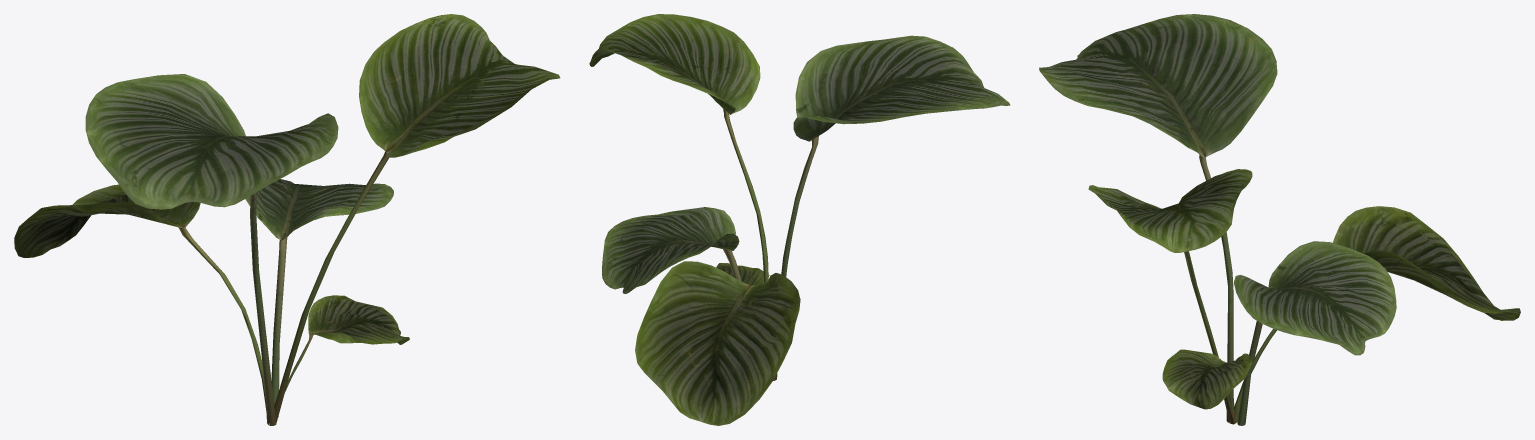
File: calathea_orbifolia_01_e.gltf.lod.glb
3 renders of one model, left to right at view 1: azimuth 30°, elevation 25°; view 2: azimuth 150°, elevation 25°; view 3: azimuth 270°, elevation 25°, orthographic. The views are drawn at different scales.
Visible parts, largest first — view 1: calathea_orbifolia_01_c; view 2: calathea_orbifolia_01_c; view 3: calathea_orbifolia_01_c.
Boxes of the visible parts, left/top/right/bottom form: calathea_orbifolia_01_c: left=14, top=14, right=560, bottom=425; calathea_orbifolia_01_c: left=589, top=14, right=1010, bottom=425; calathea_orbifolia_01_c: left=1039, top=14, right=1520, bottom=425.
Size of the model in its own units: 0.3752 by 0.284 by 0.3838.
1 material, 1 textured.
